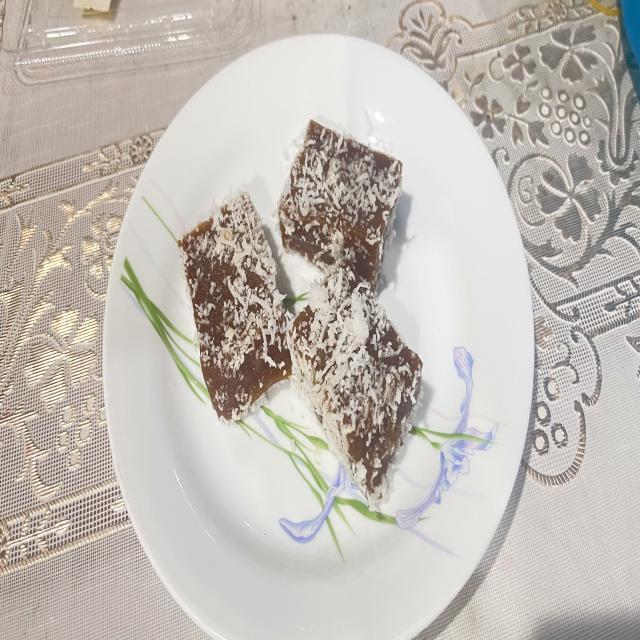kaswi: (289, 264, 422, 509), (179, 193, 291, 422), (279, 120, 402, 289)
